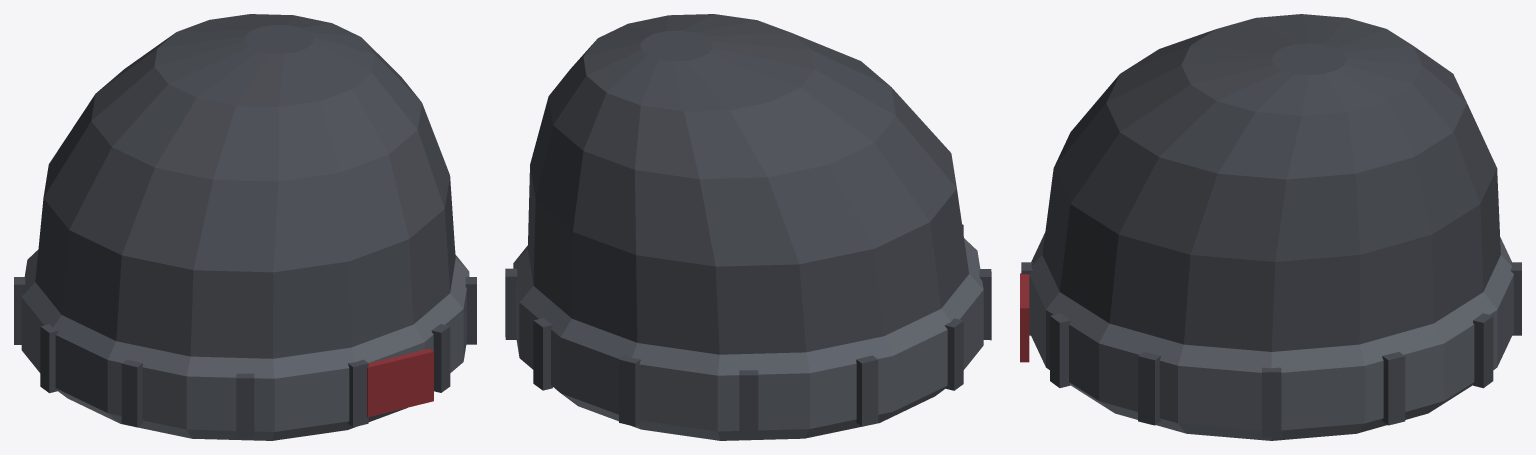
The model's file is street_gang_beanie.fbx.
3 views of the same model, side by side, from view 1: azimuth 30°, elevation 25°; view 2: azimuth 150°, elevation 25°; view 3: azimuth 270°, elevation 25° (orthographic). The views are drawn at different scales.
Visible parts, largest first — view 1: StreetGangBeanie; view 2: StreetGangBeanie; view 3: StreetGangBeanie.
Boxes of the visible parts, x1=… form: StreetGangBeanie: x1=14, y1=14, x2=476, y2=440; StreetGangBeanie: x1=505, y1=14, x2=991, y2=440; StreetGangBeanie: x1=1020, y1=14, x2=1521, y2=440.
Bounding box in the file's own units: 130 × 90 × 130.
